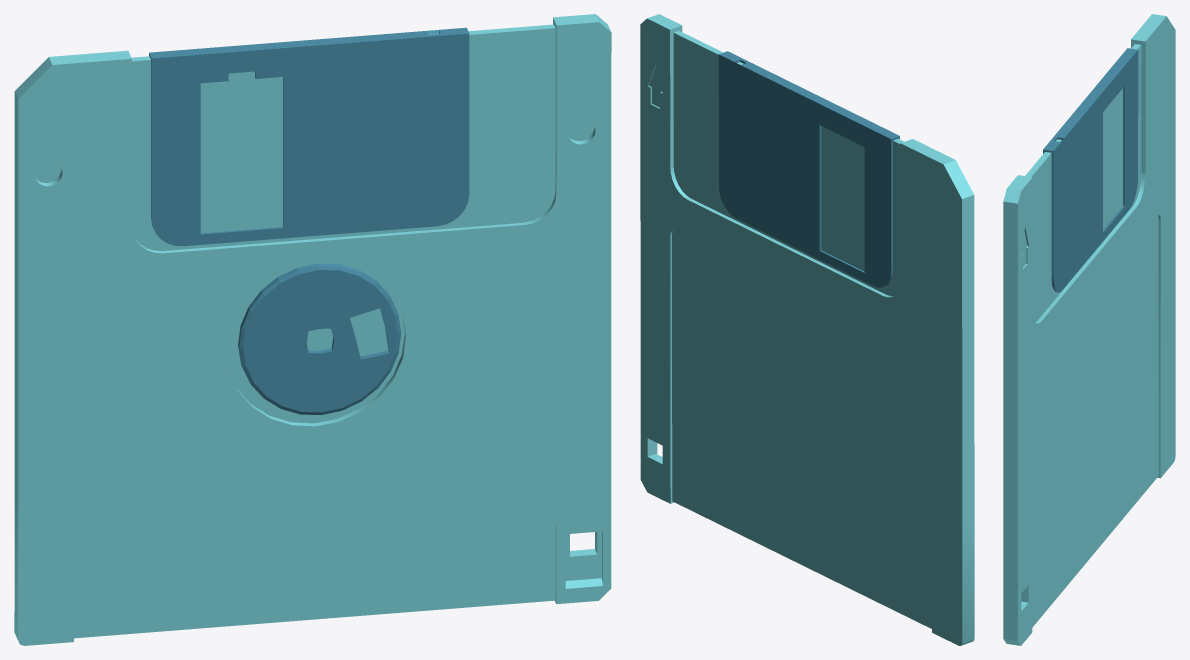
Rendered from drive.gltf.
The picture shows the model from 3 angles, left to right: view 1: azimuth 30°, elevation 25°; view 2: azimuth 150°, elevation 25°; view 3: azimuth 270°, elevation 25°; orthographic projection. The views are drawn at different scales.
Visible parts, largest first — view 1: disquete_1_low, disquete_2_low, disquete_3_low; view 2: disquete_1_low, disquete_2_low; view 3: disquete_1_low, disquete_2_low.
Boxes of the visible parts, x1,y1,x2,y2 form: disquete_1_low: (14,14,611,645); disquete_2_low: (149,27,469,246); disquete_3_low: (238,263,401,414); disquete_1_low: (640,14,974,645); disquete_2_low: (718,51,899,287); disquete_1_low: (1003,14,1175,645); disquete_2_low: (1043,48,1138,292).
Size of the model in its own units: 0.0835 by 0.0926 by 0.0318.
